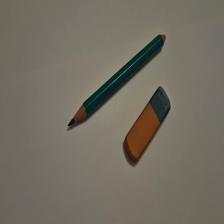eraser: (125, 87, 172, 164)
pencil: (69, 35, 167, 128)
